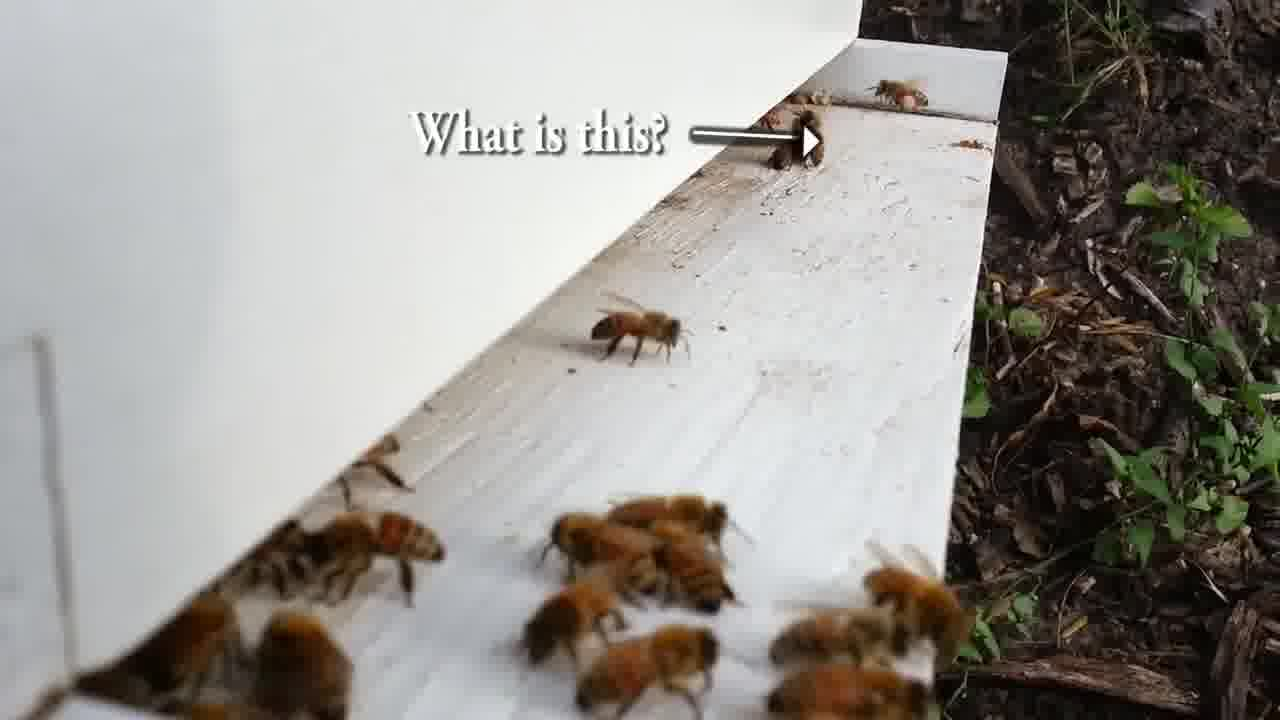pollen: (871, 74, 932, 112)
